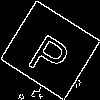P: (25, 24, 78, 81)
